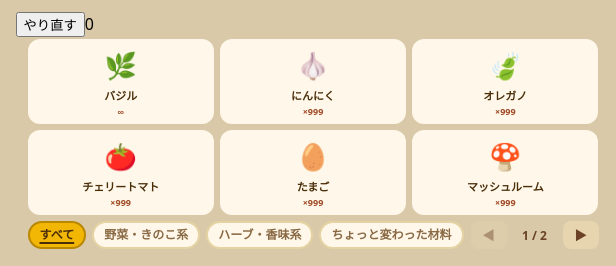
Purchased onion stays reachable via page nav (Independent Review P1, PR #26) › navigating to page 2 reveals onion, and it can be selected
The width and height of the screenshot is (616, 266).
Click the button named "次のページ": {"x": 580, "y": 235} [562,221,598,249]
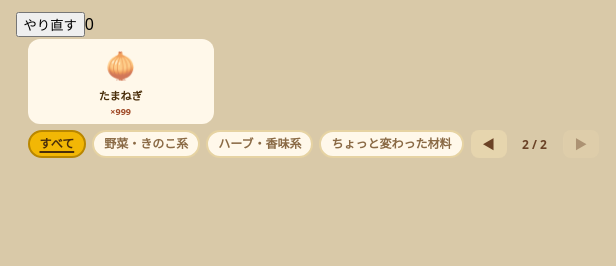
Now the text "2 / 2" is shown, box [522,136,547,152]
Now the button "🧅 たまねぎ ×999" is shown
Click the button "🧅 たまねぎ ×999": {"x": 121, "y": 82} [28,39,214,124]
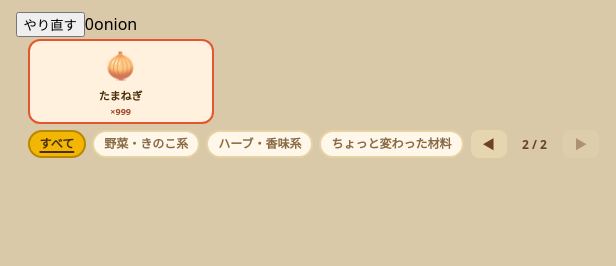
Now the text with test id "selected-id" reads "onion", box [94,13,137,35]
